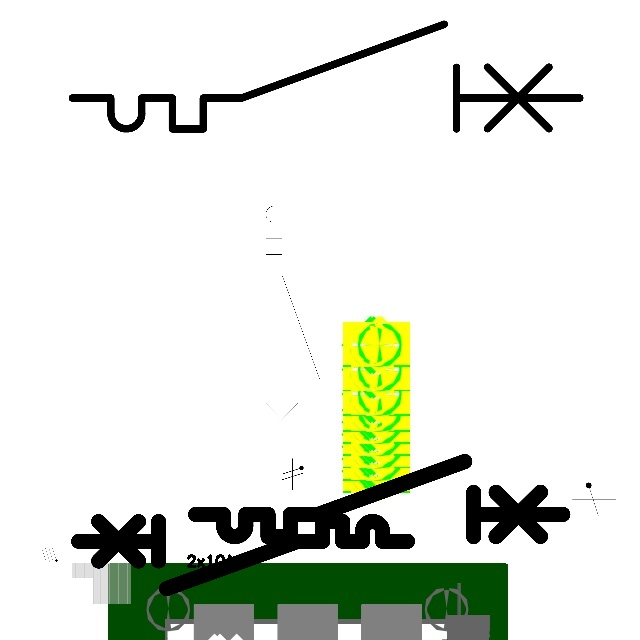interruptor_termomagnetico: (59, 11, 593, 142), (186, 452, 572, 546), (70, 513, 416, 597), (259, 179, 327, 459)
